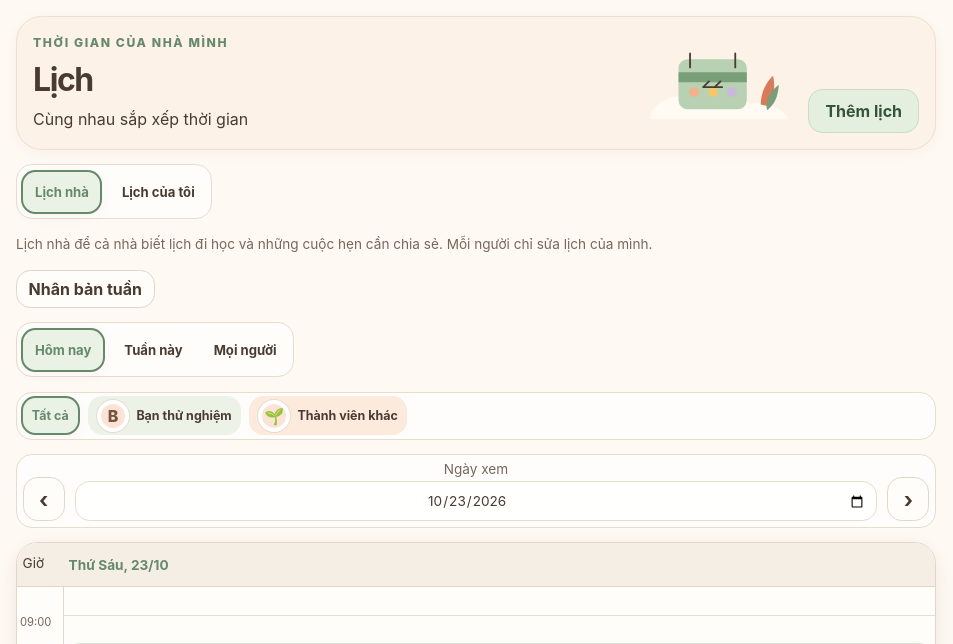
shared family calendar › confirms an owned family-week copy and reuses the retry-safe endpoint
(page scrolled)
Click the button "Nhân bản tuần": coordinates (85, 289) x1=16 y1=270 x2=155 y2=308
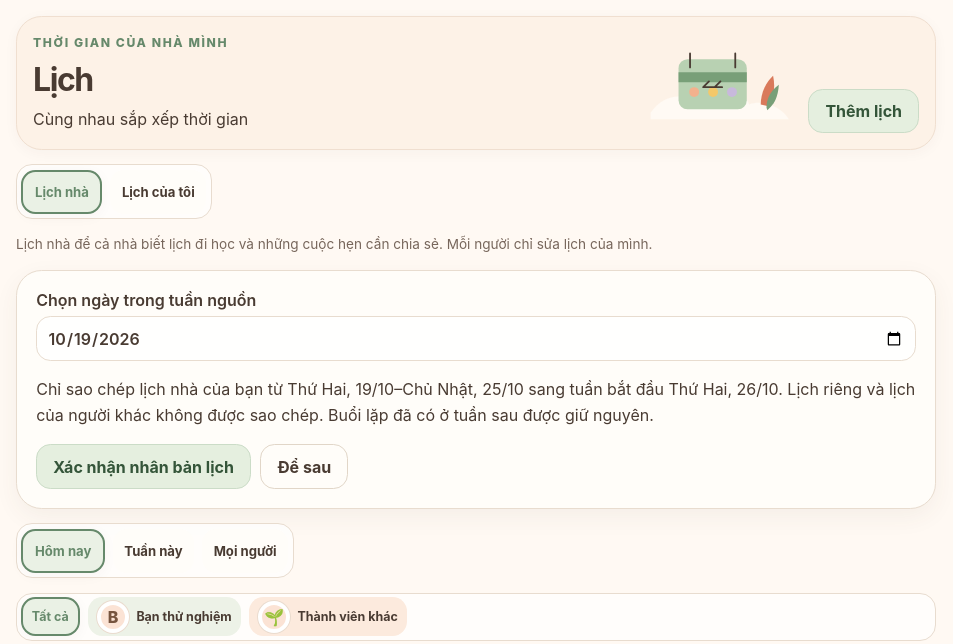
Expected: the text "Chỉ sao chép lịch nhà của bạn" is shown, x1=36 y1=379 x2=287 y2=399
Click the button "Xác nhận nhân bản lịch": coordinates (144, 467) x1=36 y1=444 x2=251 y2=489
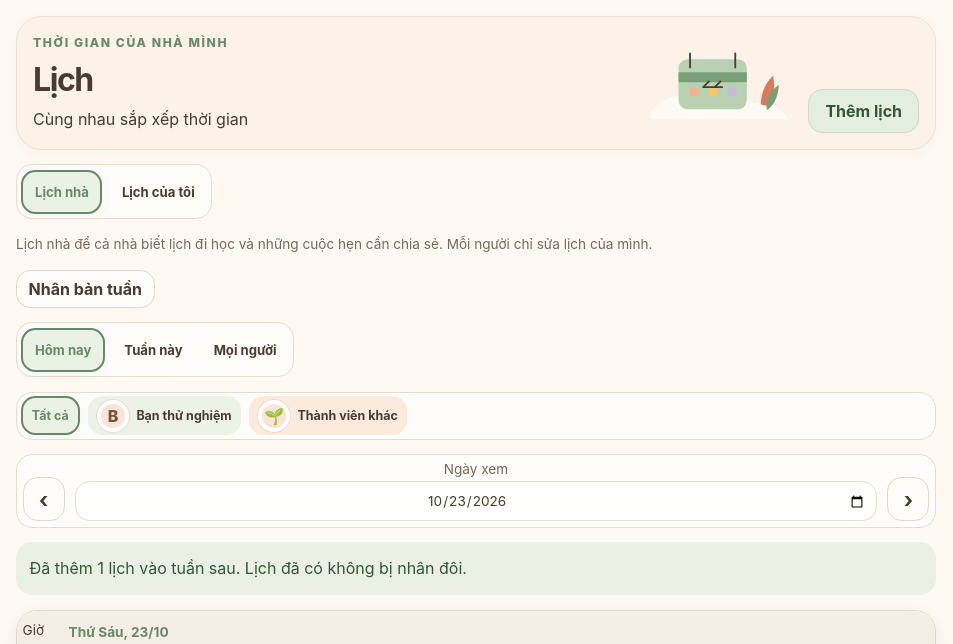
Expected: the text "Đã thêm 1 lịch vào tuần sau. Lịch đã có không bị nhân đôi." is shown, x1=16 y1=542 x2=936 y2=595
